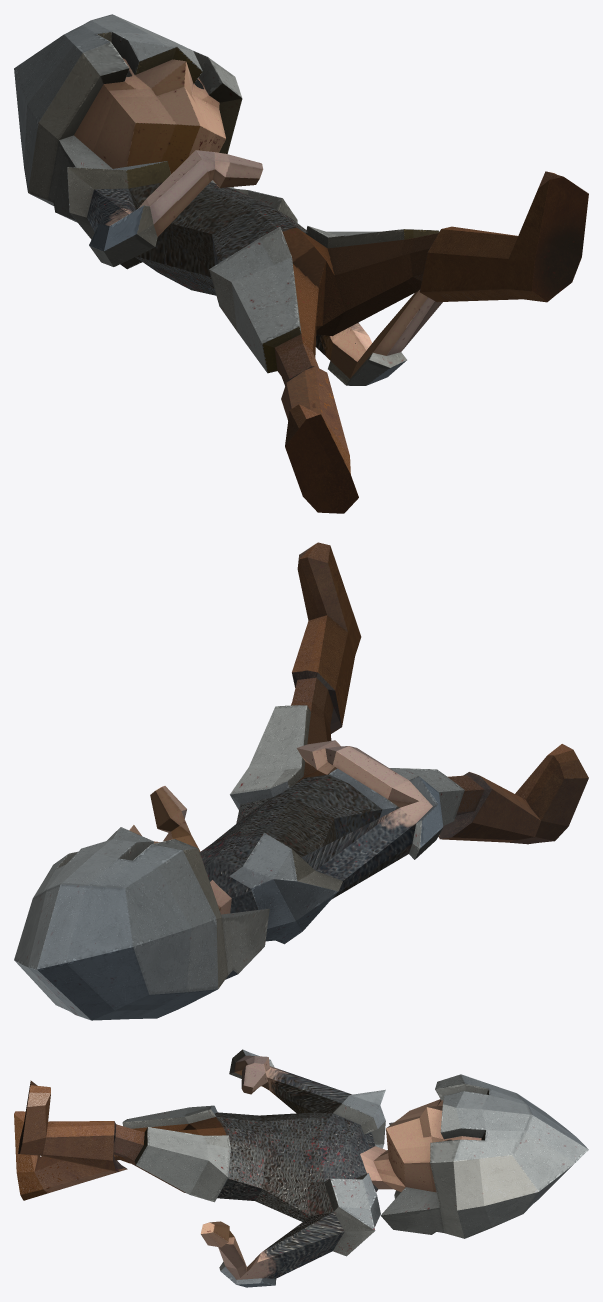
The model's file is Walk_Soldier_15.obj.
The picture shows the model from 3 angles, top to bottom: view 1: azimuth 30°, elevation 25°; view 2: azimuth 150°, elevation 25°; view 3: azimuth 270°, elevation 25°; orthographic projection. The views are drawn at different scales.
Visible parts, largest first — view 1: Soldado_LowPolySTD; view 2: Soldado_LowPolySTD; view 3: Soldado_LowPolySTD.
Part boxes in pixels (left/top/right/bottom): Soldado_LowPolySTD: left=14, top=14, right=588, bottom=513; Soldado_LowPolySTD: left=14, top=542, right=588, bottom=1020; Soldado_LowPolySTD: left=14, top=1049, right=588, bottom=1287.
Size of the model in its own units: 1.4 by 1.21 by 2.92.
